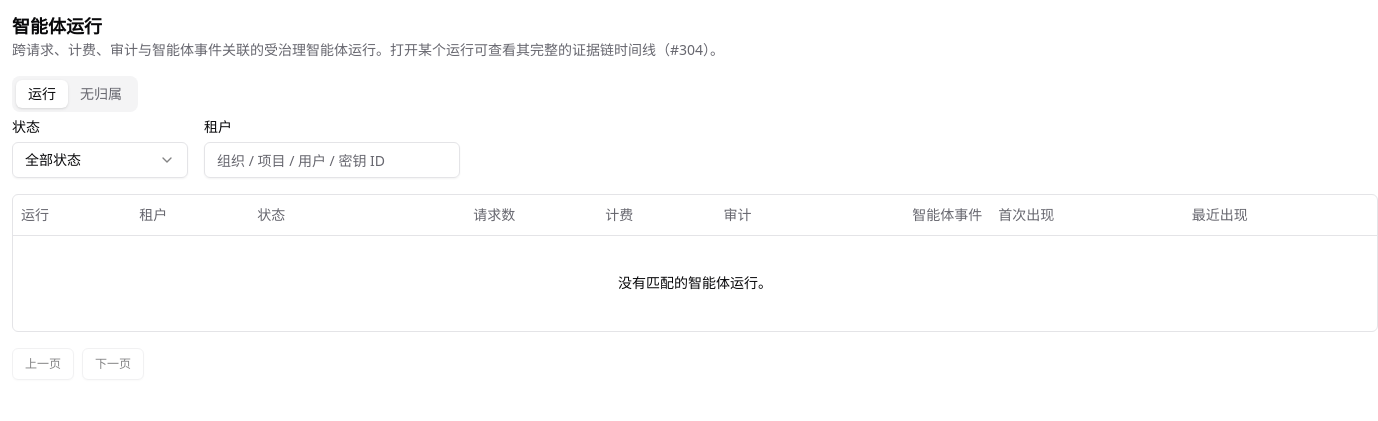
Test: agent-runs unattributed tab copy is localized › renders Simplified Chinese tab label, description, and empty state
Click the tab "无归属": (101, 94) top-left (68, 80), bottom-right (134, 108)
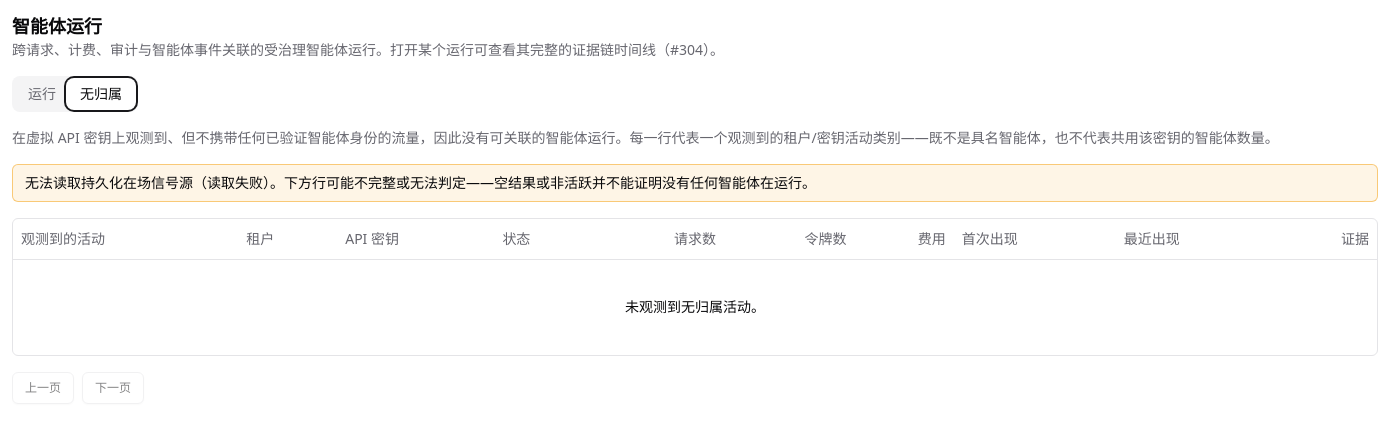
Result: the text "在虚拟 API 密钥上观测到、但不携带任何已验证智能体身份的流量，因此没有可关联的智能体运行。每一行代表一个观测到的租户/密钥活动类别——既不是具名智能体，也不代表共用该密钥的智能体数量。" is shown at top-left (12, 128), bottom-right (1279, 147)
Result: the text "未观测到无归属活动。" is shown at top-left (13, 259), bottom-right (1377, 355)
